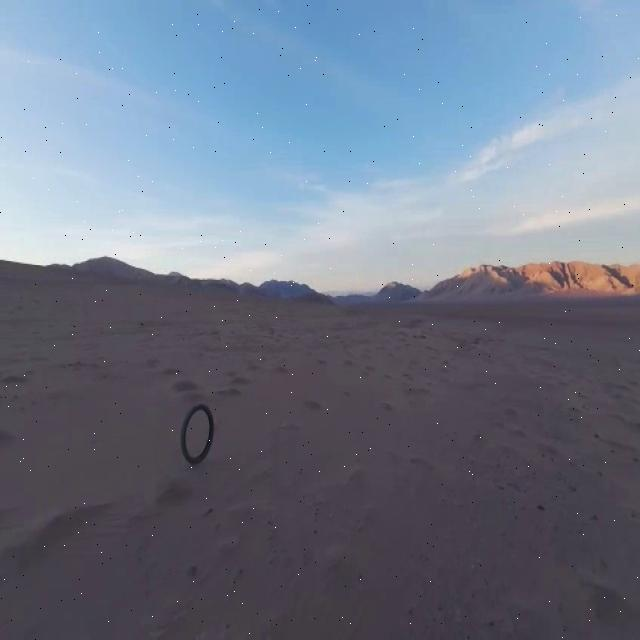Tire: (181, 403, 214, 465)
